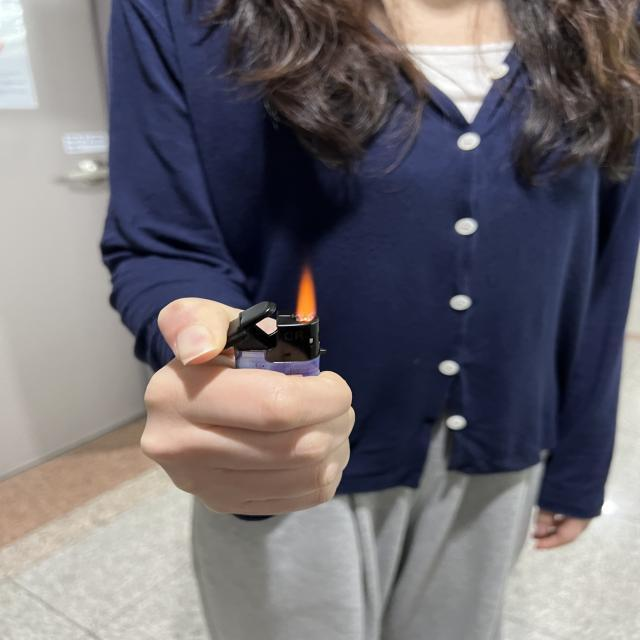fire: (295, 268, 316, 320)
